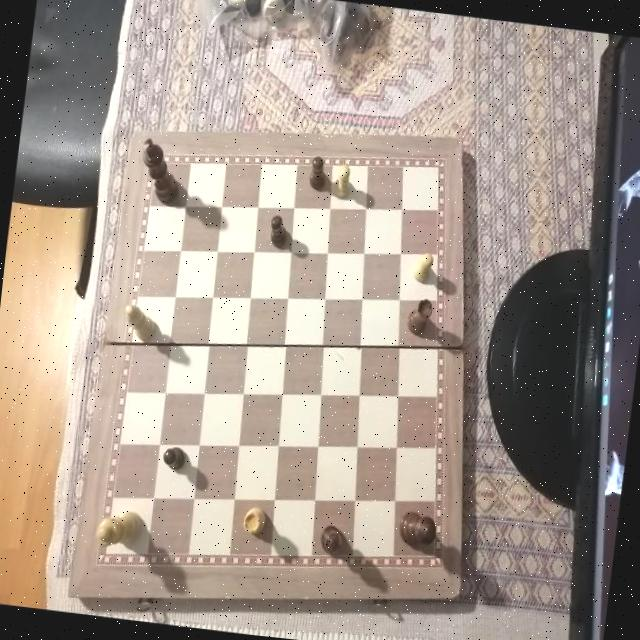corners: (444, 577, 468, 604), (56, 583, 80, 605), (449, 132, 473, 152), (122, 122, 142, 144)
